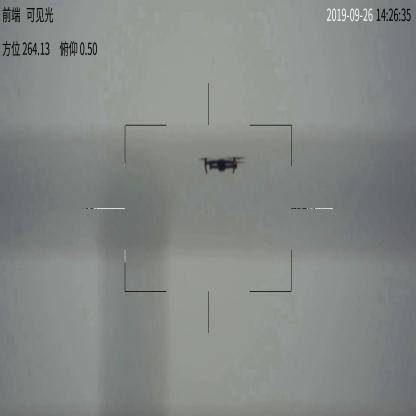uav: (198, 153, 245, 177)
